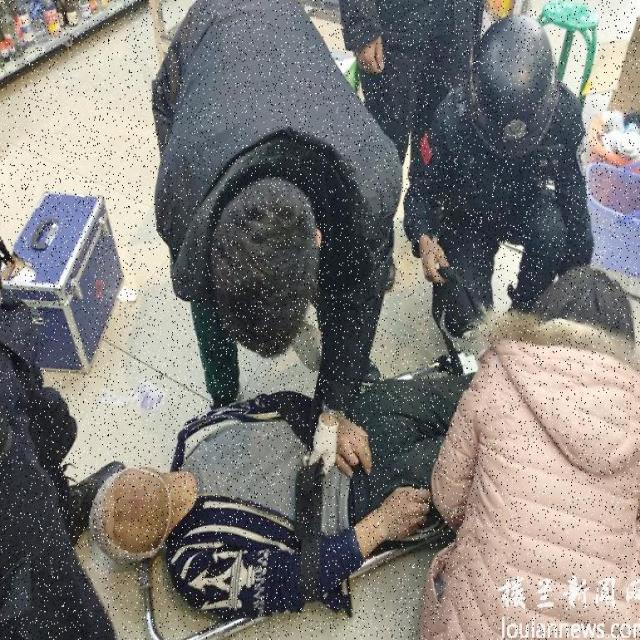fall: (90, 412, 428, 599)
